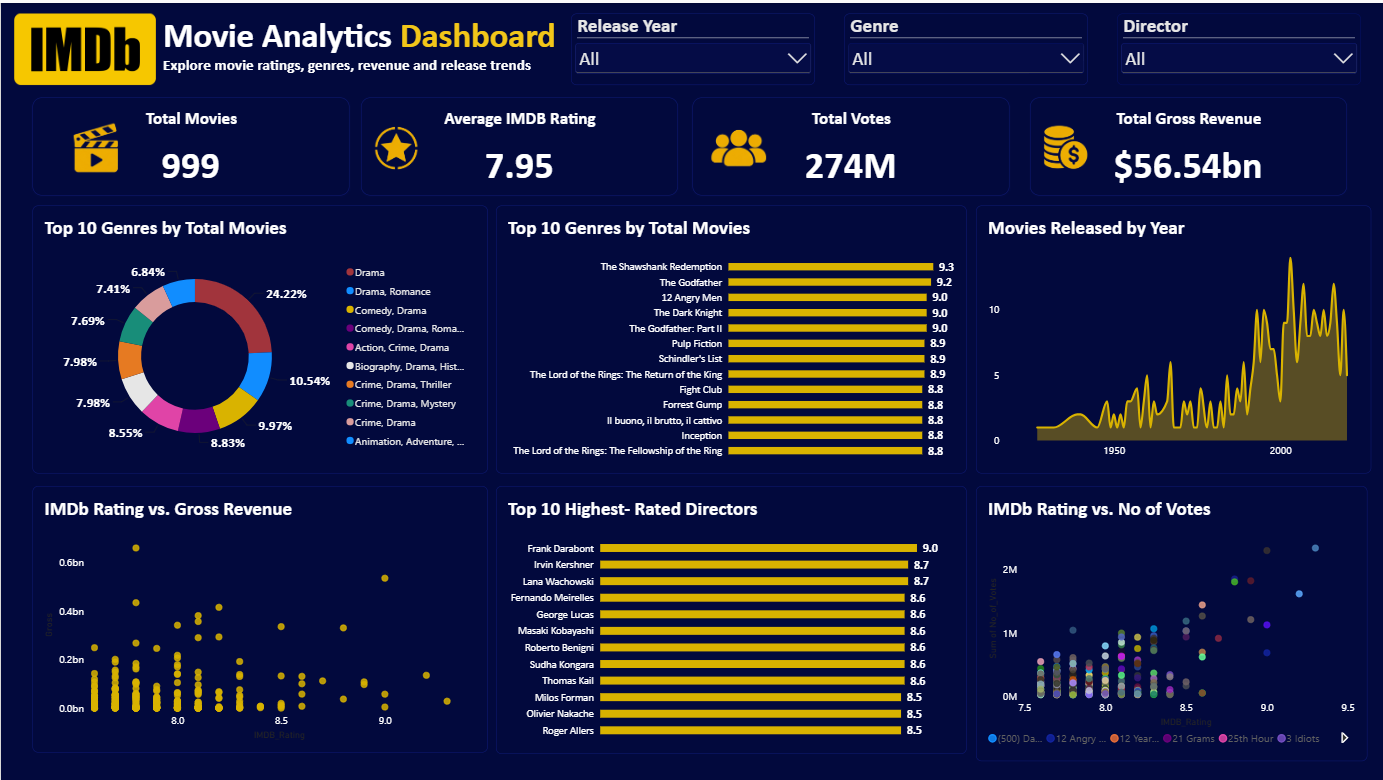

This screenshot's page, from the dashboard's own definition file:
{"tool":"powerbi","page":{"name":"Page 1","canvas":[1920,1080],"ordinal":0},"visuals":[{"type":"image","box":[9.2,13.8,216.6,99.1],"z":0},{"type":"textbox","box":[225.8,13.8,599.2,99.1],"z":1000},{"type":"slicer","fields":{"Values":["imdb_top_10001.Released_Year"]},"box":[790.4,13.8,338.8,99.1],"z":2000},{"type":"slicer","fields":{"Values":["imdb_top_10001.Genre"]},"box":[1170.7,13.8,338.8,99.1],"z":3000},{"type":"slicer","fields":{"Values":["imdb_top_10001.Director"]},"box":[1548.6,13.8,338.8,99.1],"z":4000},{"type":"card","title":"Total Movies","fields":{"Values":["calculate_table.Total_Movies"]},"box":[43.8,131.4,440.2,136],"z":5000},{"type":"image","box":[83,159,99.1,83],"z":6000},{"type":"card","title":"Average IMDB Rating","fields":{"Values":["calculate_table.avg_imdb_rating"]},"box":[500.1,131.4,440.2,136],"z":7000},{"type":"card","title":"Total Votes","fields":{"Values":["calculate_table.total_votes"]},"box":[961,131.4,440.2,136],"z":8000},{"type":"card","title":"Total Gross Revenue","fields":{"Values":["calculate_table.total_gross"]},"box":[1428.8,131.4,440.2,136],"z":9000},{"type":"donutChart","title":"Top 10 Genres by Total Movies","fields":{"Category":["imdb_top_10001.Genre"],"Y":["calculate_table.Total_Movies"]},"box":[43.3,281.7,631.7,371.7],"z":10000},{"type":"clusteredBarChart","title":"Top-Rated Movie by IMDb Rating  ","fields":{"Category":["imdb_top_10001.Movie_Title"],"Y":["calculate_table.avg_imdb_rating"]},"box":[686.7,281.7,653.3,371.7],"z":11000},{"type":"areaChart","title":"Movies Released by Year","fields":{"Category":["imdb_top_10001.Released_Year"],"Y":["calculate_table.Total_Movies"]},"box":[1353.3,281.7,548.3,371.7],"z":12000},{"type":"scatterChart","title":"IMDb Rating vs. Gross Revenue","fields":{"X":["imdb_top_10001.IMDB_Rating"],"Y":["imdb_top_10001.Gross"]},"box":[43.3,670,631.7,370],"z":12001},{"type":"clusteredBarChart","title":"Directors with Highest IMDb Ratings","fields":{"Category":["imdb_top_10001.Director"],"Y":["calculate_table.avg_imdb_rating"]},"box":[686.7,670,653.3,371.7],"z":12002},{"type":"scatterChart","title":"IMDb Rating vs. No of Votes","fields":{"Series":["imdb_top_10001.Movie_Title"],"X":["imdb_top_10001.IMDB_Rating"],"Y":["Sum(imdb_top_10001.No_of_Votes)"]},"box":[1353.3,670,543.3,381.7],"z":12003},{"type":"image","box":[500.1,159,99.1,83],"z":12004},{"type":"image","box":[979.4,159,99.1,83],"z":12005},{"type":"image","box":[1428.8,159,99.1,83],"z":12006}]}

Visuals, with their boxes in screenshot pixels (x1, y1, x2, y2), scaled from the page's 1920x1080 canvas onto the 1383x780 screenshot:
image: 7:10:163:82
textbox: 163:10:594:82
slicer - imdb_top_10001.Released_Year: 569:10:813:82
slicer - imdb_top_10001.Genre: 843:10:1087:82
slicer - imdb_top_10001.Director: 1115:10:1360:82
"Total Movies" card: 32:95:349:193
image: 60:115:131:175
"Average IMDB Rating" card: 360:95:677:193
"Total Votes" card: 692:95:1009:193
"Total Gross Revenue" card: 1029:95:1346:193
"Top 10 Genres by Total Movies" donutChart: 31:203:486:472
"Top-Rated Movie by IMDb Rating  " clusteredBarChart: 495:203:965:472
"Movies Released by Year" areaChart: 975:203:1370:472
"IMDb Rating vs. Gross Revenue" scatterChart: 31:484:486:751
"Directors with Highest IMDb Ratings" clusteredBarChart: 495:484:965:752
"IMDb Rating vs. No of Votes" scatterChart: 975:484:1366:760
image: 360:115:432:175
image: 705:115:777:175
image: 1029:115:1101:175
